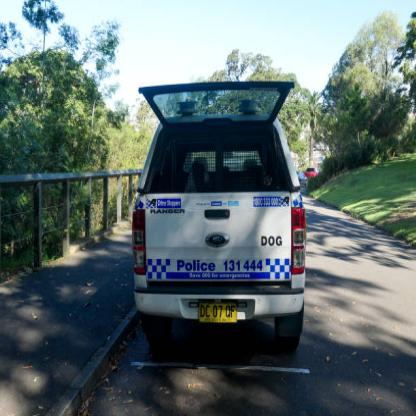number plate: (197, 297, 236, 325)
van back: (131, 73, 302, 348)
